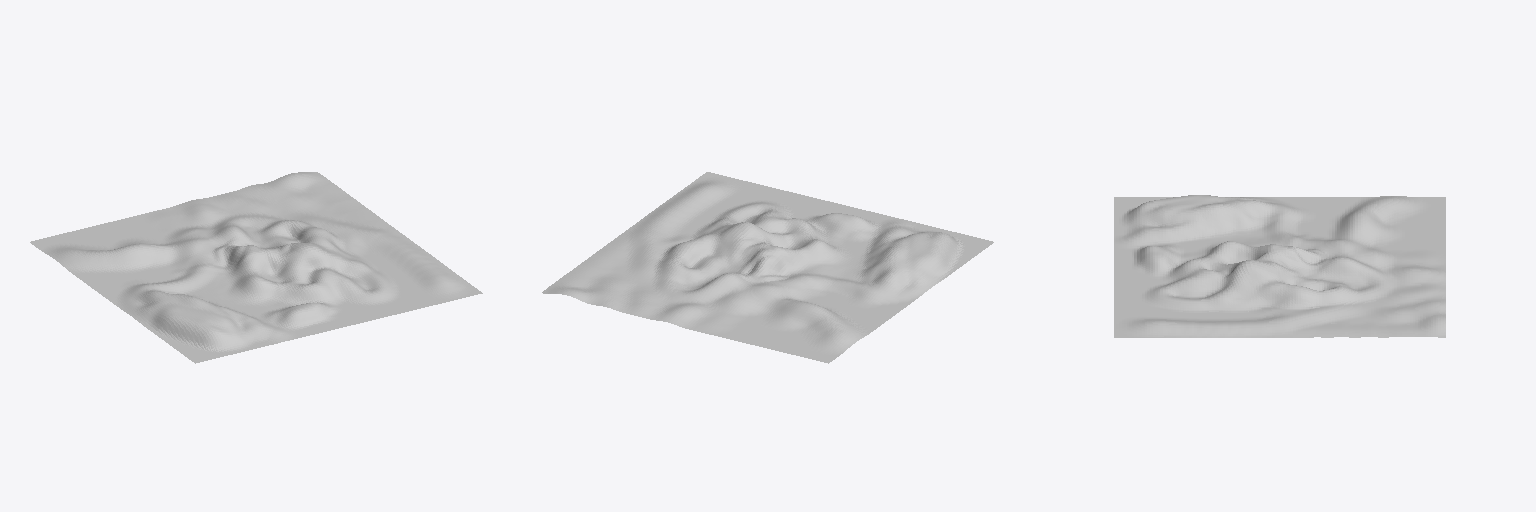
File: terrainOld.obj
3 views of the same model, side by side, from view 1: azimuth 30°, elevation 25°; view 2: azimuth 150°, elevation 25°; view 3: azimuth 270°, elevation 25° (orthographic).
Visible parts, largest first — view 1: Plane_Plane.001; view 2: Plane_Plane.001; view 3: Plane_Plane.001.
Boxes of the visible parts, box(x1,y1,x2,y2) form: Plane_Plane.001: box(30, 172, 482, 363); Plane_Plane.001: box(542, 172, 993, 363); Plane_Plane.001: box(1114, 195, 1445, 337).
Size of the model in its own units: 100 by 7.72 by 100.